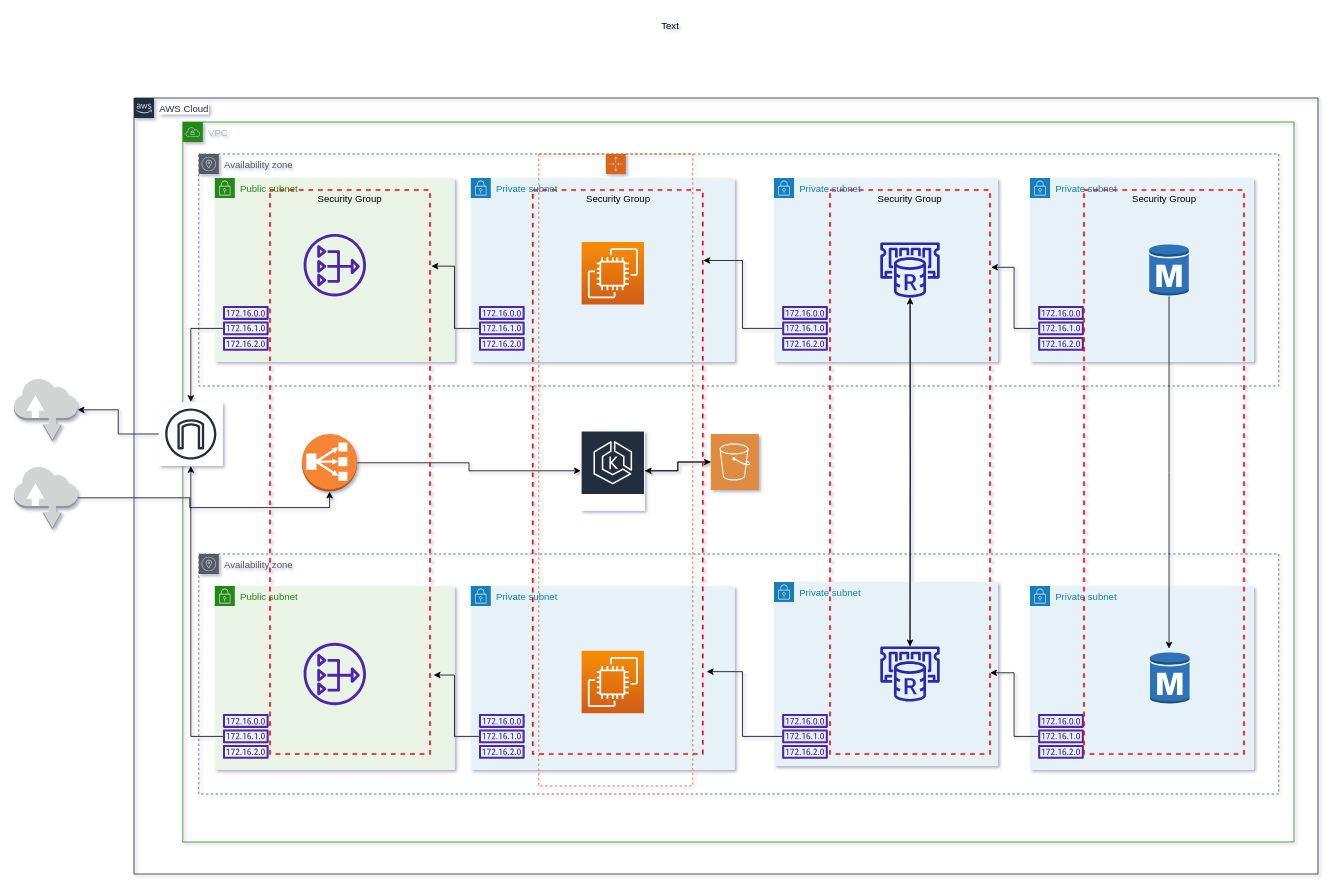
This 1337x893 diagram has some shape labels left out. Here are the shapes that lost their labels. From the top down, the box of each, then its label:
(158, 401, 223, 466): Internet gateway
(580, 430, 645, 511): Amazon EKS
(538, 153, 693, 786): Auto Scaling group
